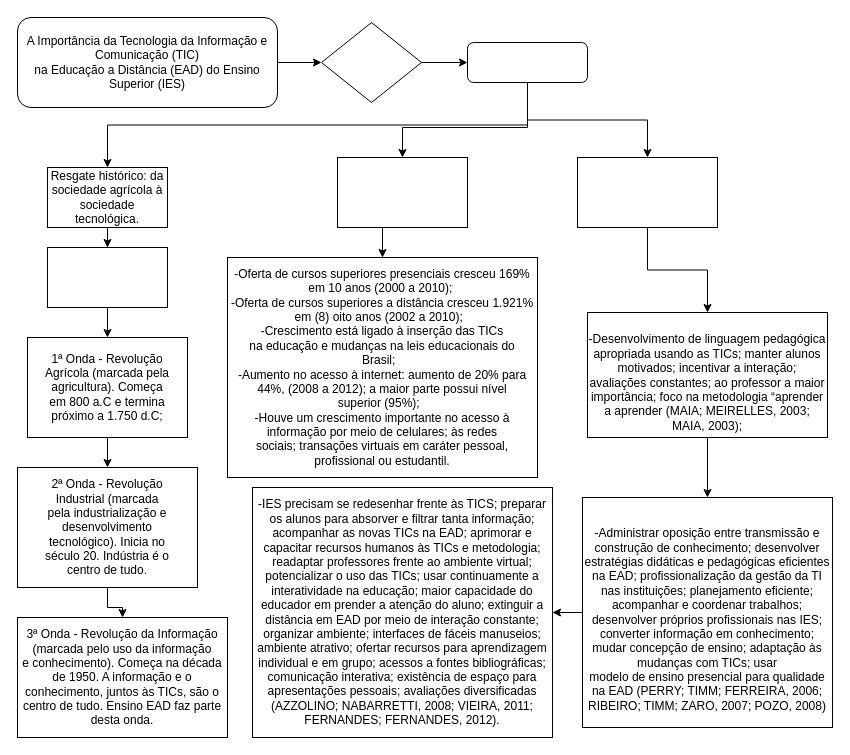
Image size: 850x755. Some labels were removed from this diagram. Here are the shapes that lost their labels. From the top down, the centre of each, then its label:
[371,62]: Se divide em
[527,62]: RESULTADOS
[402,192]: Crescimento da educação EAD no ensino superior
[647,192]: Desafios da Gestão das TIC nas instituições de ensino superior EAD.
[107,277]: Com base na Teoria de Tofler (2001) - “Terceira Onda”:
